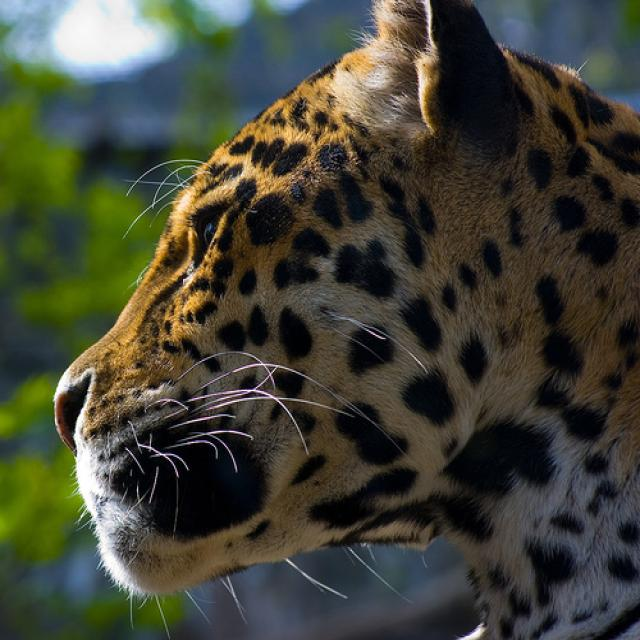Leopard: (49, 1, 636, 636)
